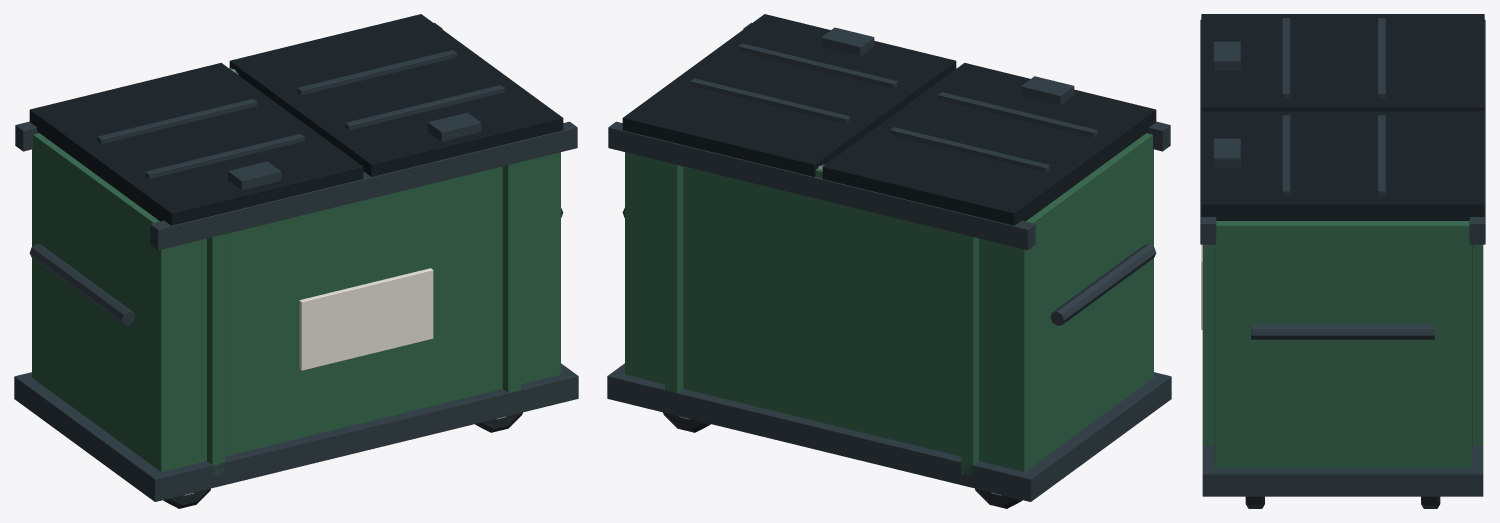
Rendered from b04_rear_load_rolling_dumpster.glb.
The picture shows the model from 3 angles, left to right: view 1: azimuth 30°, elevation 25°; view 2: azimuth 150°, elevation 25°; view 3: azimuth 270°, elevation 25°; orthographic projection.
Visible parts, largest first — view 1: b04_rear_load_rolling_dumpster; view 2: b04_rear_load_rolling_dumpster; view 3: b04_rear_load_rolling_dumpster.
Part boxes in pixels (left/top/right/bottom): b04_rear_load_rolling_dumpster: left=14, top=14, right=578, bottom=508; b04_rear_load_rolling_dumpster: left=607, top=14, right=1171, bottom=508; b04_rear_load_rolling_dumpster: left=1200, top=14, right=1485, bottom=508.
Size of the model in its own units: 2.21 by 1.58 by 1.24.
